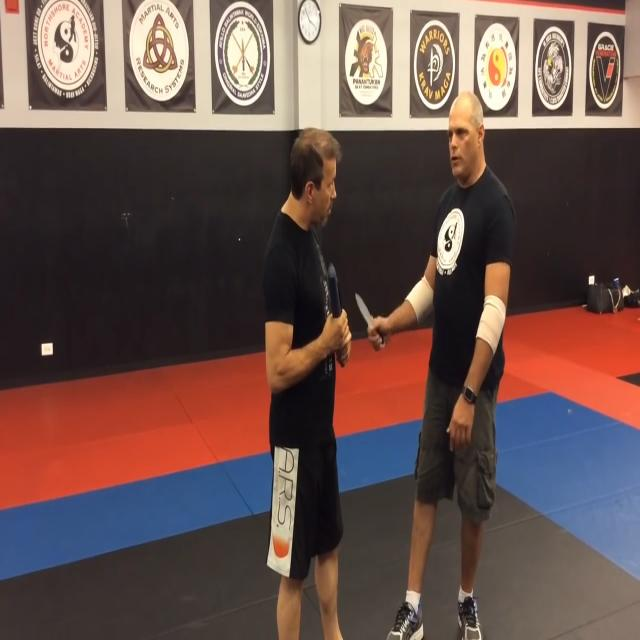knife: (356, 290, 374, 326)
